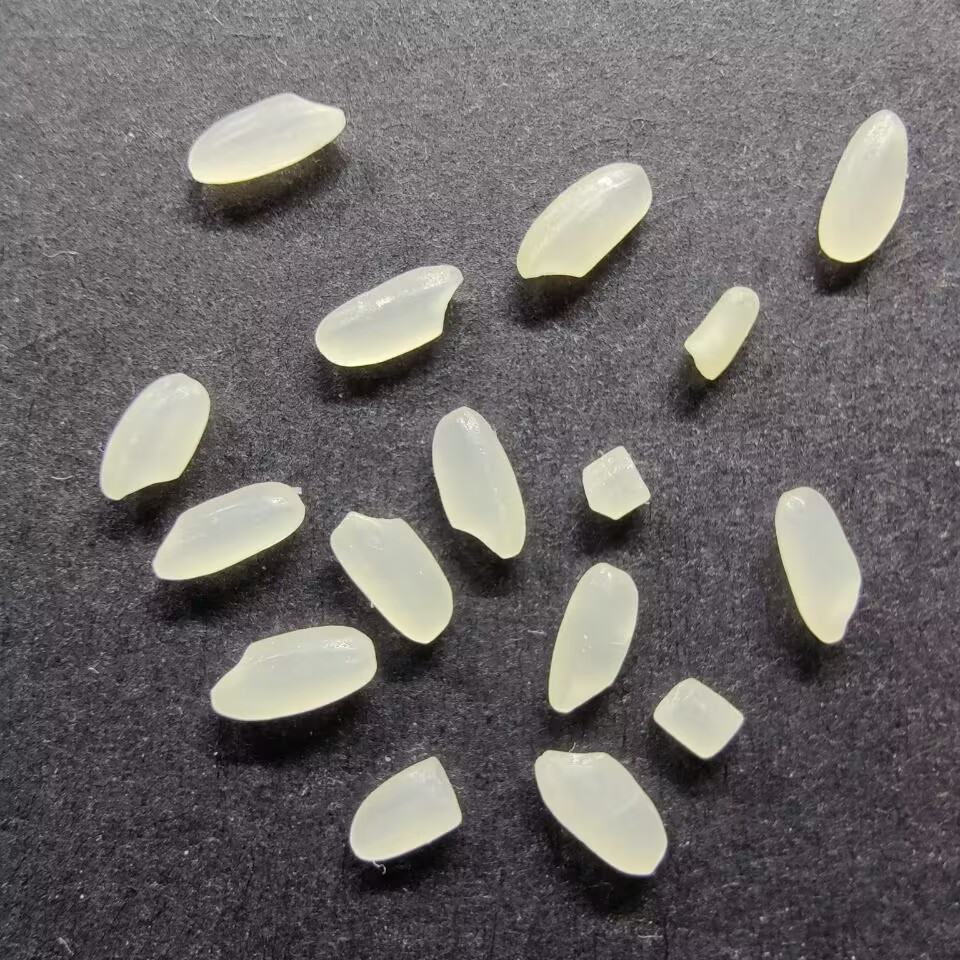broken: (347, 755, 463, 862), (651, 675, 746, 760), (683, 286, 760, 381), (580, 446, 650, 521)
rice: (533, 748, 671, 879), (328, 507, 454, 646), (514, 160, 654, 282), (208, 623, 378, 722), (150, 478, 307, 582), (312, 261, 464, 368), (185, 90, 348, 187), (429, 404, 527, 561), (97, 371, 211, 503), (772, 485, 864, 644), (816, 108, 910, 263), (545, 561, 639, 714)
